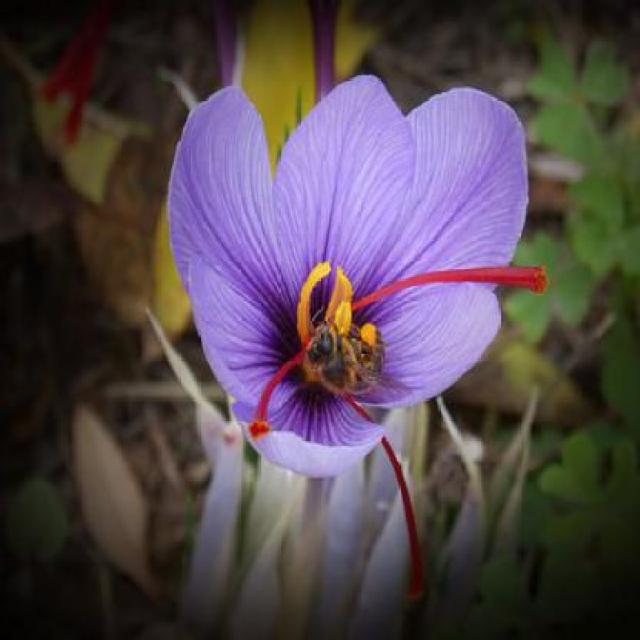Flower: (155, 68, 551, 488)
stigma: (318, 320, 446, 610), (282, 260, 568, 329), (246, 328, 304, 452), (425, 601, 430, 606)
